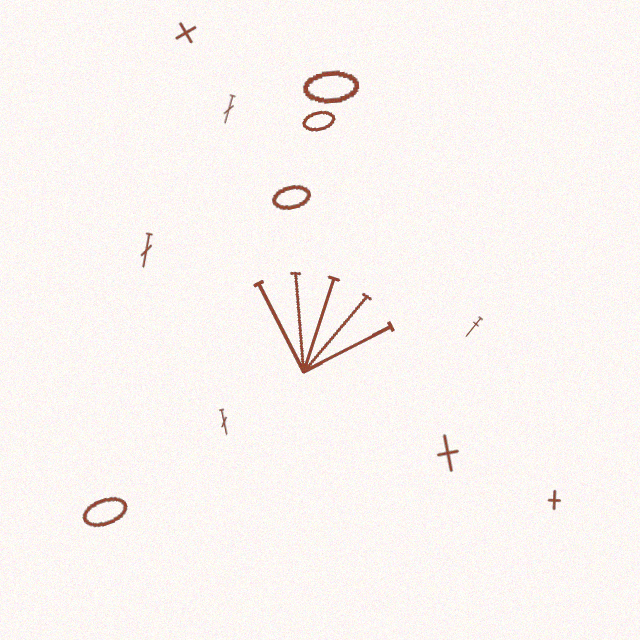chain: (301, 68, 360, 105), (78, 491, 131, 532), (269, 181, 313, 213), (300, 107, 338, 135)
double: (137, 232, 155, 269), (220, 94, 237, 125), (217, 408, 231, 436)
fan: (228, 240, 412, 399)
half_double: (462, 315, 484, 340)
single: (425, 430, 471, 476), (171, 18, 200, 47), (543, 489, 565, 511)
